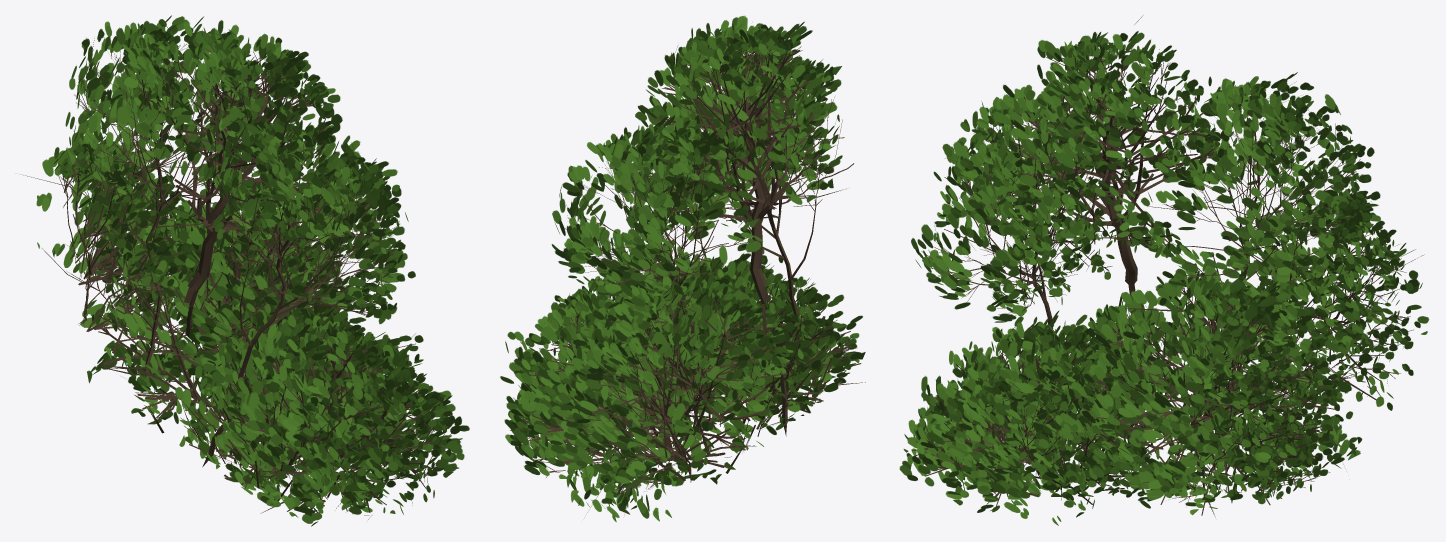
3 renders of one model, left to right at view 1: azimuth 30°, elevation 25°; view 2: azimuth 150°, elevation 25°; view 3: azimuth 270°, elevation 25°, orthographic. The views are drawn at different scales.
Parts seen in each view (by area): view 1: oak 01.001_trunk_Mat.001_0.414; view 2: oak 01.001_trunk_Mat.001_0.414; view 3: oak 01.001_trunk_Mat.001_0.414.
Boxes of the visible parts, left/top/right/bottom form: oak 01.001_trunk_Mat.001_0.414: left=22, top=15, right=469, bottom=526; oak 01.001_trunk_Mat.001_0.414: left=500, top=15, right=865, bottom=522; oak 01.001_trunk_Mat.001_0.414: left=899, top=16, right=1429, bottom=525.
Bounding box in the file's own units: 2.55 × 4.46 × 5.
2 materials, 1 textured.
